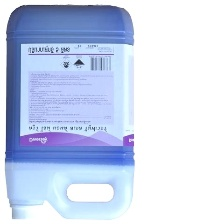cleaning_solution: (1, 2, 137, 224)
